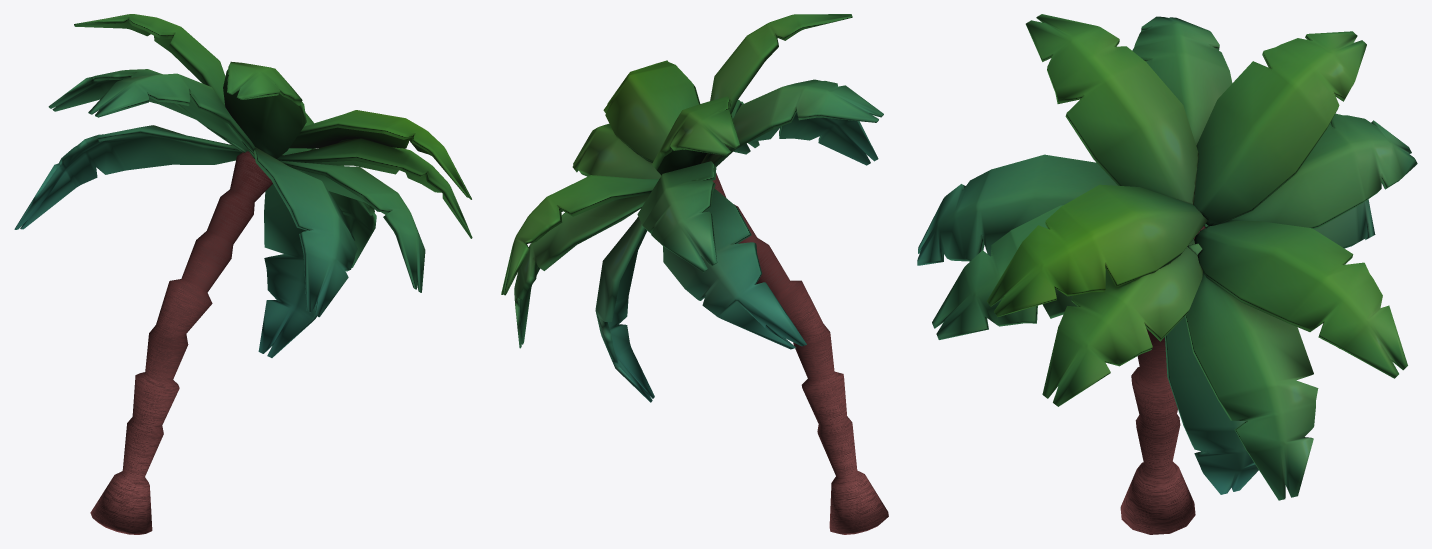
Rendered from agac.fbx.
3 renders of one model, left to right at view 1: azimuth 30°, elevation 25°; view 2: azimuth 150°, elevation 25°; view 3: azimuth 270°, elevation 25°, orthographic. The views are drawn at different scales.
Parts seen in each view (by area): view 1: palmiye2; view 2: palmiye2; view 3: palmiye2.
Part boxes in pixels (bbox=[...]): palmiye2: bbox=[14, 14, 472, 534]; palmiye2: bbox=[501, 14, 888, 534]; palmiye2: bbox=[917, 14, 1417, 534].
Bounding box in the file's own units: 288 × 382 × 319.
